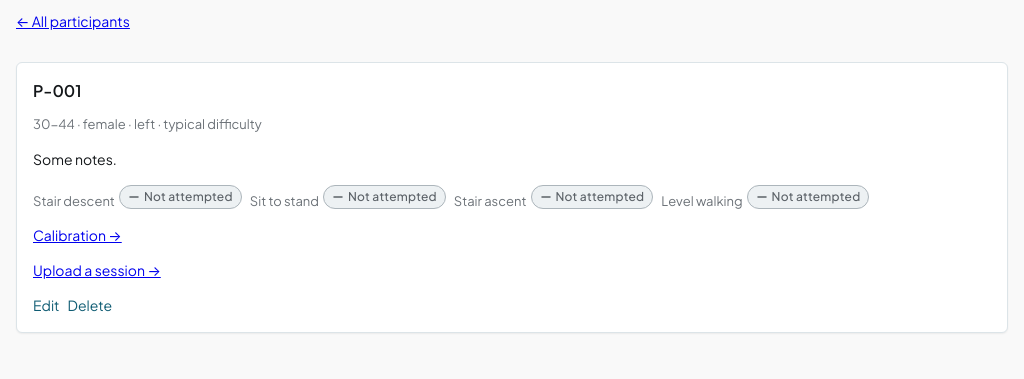
Test case: ParticipantDetailPage › shows an error and keeps the record if deletion fails
The width and height of the screenshot is (1024, 379).
Expected: the heading "P-001" is shown, [33, 80, 82, 101]
What coordinates should you click on to do the following:
click the button "Delete"
I would click on:
 (90, 306)
Its box is [68, 295, 112, 316].
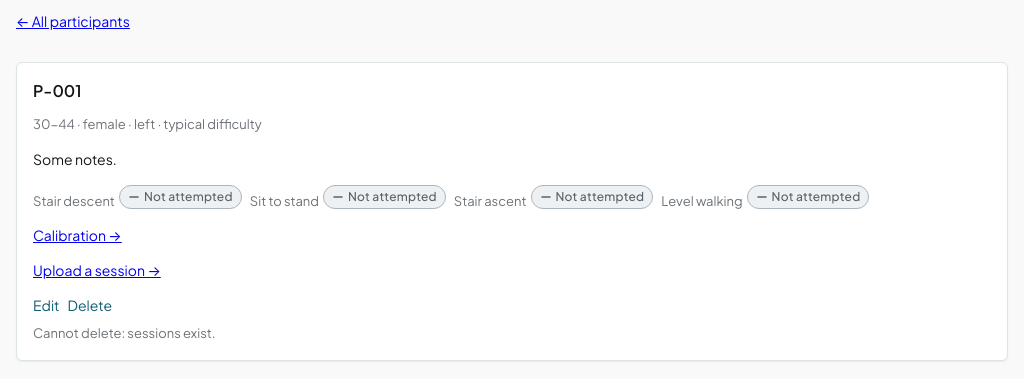
Result: the message shows "Cannot delete" at [33, 325, 216, 341]
